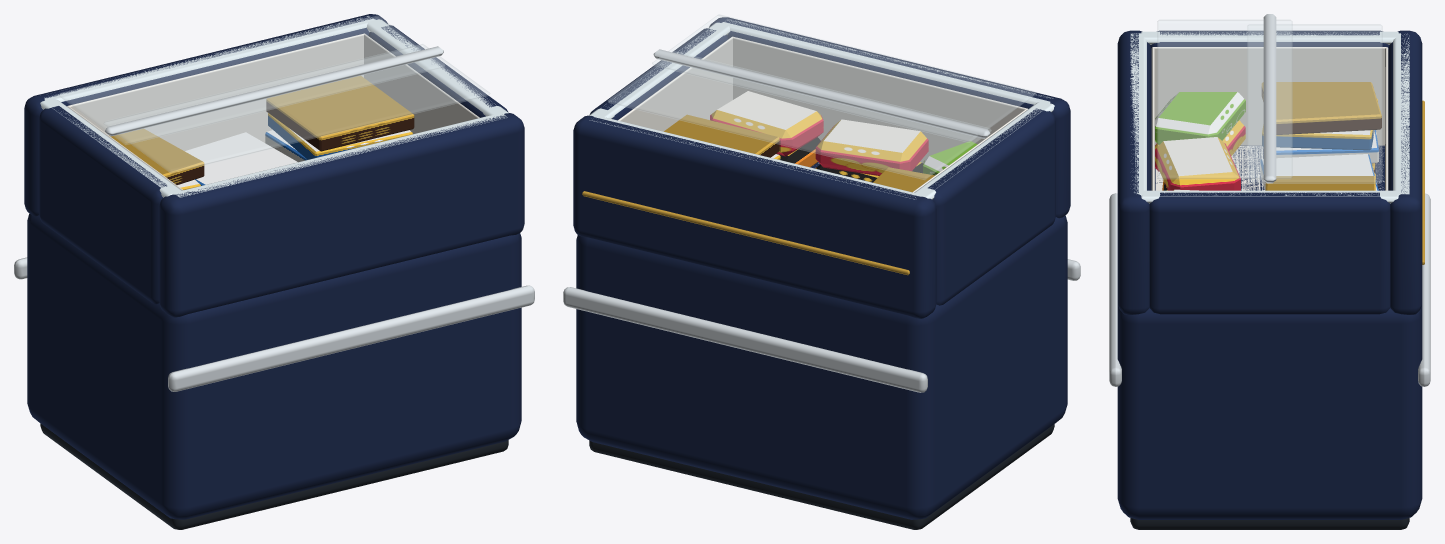
The model's file is freezer_T1.fbx.
The picture shows the model from 3 angles, left to right: view 1: azimuth 30°, elevation 25°; view 2: azimuth 150°, elevation 25°; view 3: azimuth 270°, elevation 25°; orthographic projection.
Parts seen in each view (by area): view 1: Body, Anim Fill 0, Anim Fill 1, Anim Fill 2; view 2: Body, Anim Fill 0, Anim Fill 1, Anim Fill 2; view 3: Body, Anim Fill 2, Anim Fill 1, Anim Fill 0.
Boxes of the visible parts, x1,y1,x2,y2 form: Body: (14, 14, 534, 529); Anim Fill 0: (265, 75, 414, 162); Anim Fill 1: (185, 132, 297, 185); Anim Fill 2: (109, 128, 204, 189); Body: (563, 14, 1080, 529); Anim Fill 0: (664, 91, 823, 167); Anim Fill 1: (815, 119, 928, 182); Anim Fill 2: (873, 141, 977, 192); Body: (1109, 14, 1430, 529); Anim Fill 2: (1155, 82, 1381, 172); Anim Fill 1: (1155, 137, 1378, 190); Anim Fill 0: (1173, 176, 1375, 190).
Size of the model in its own units: 1 by 0.93 by 0.76.
